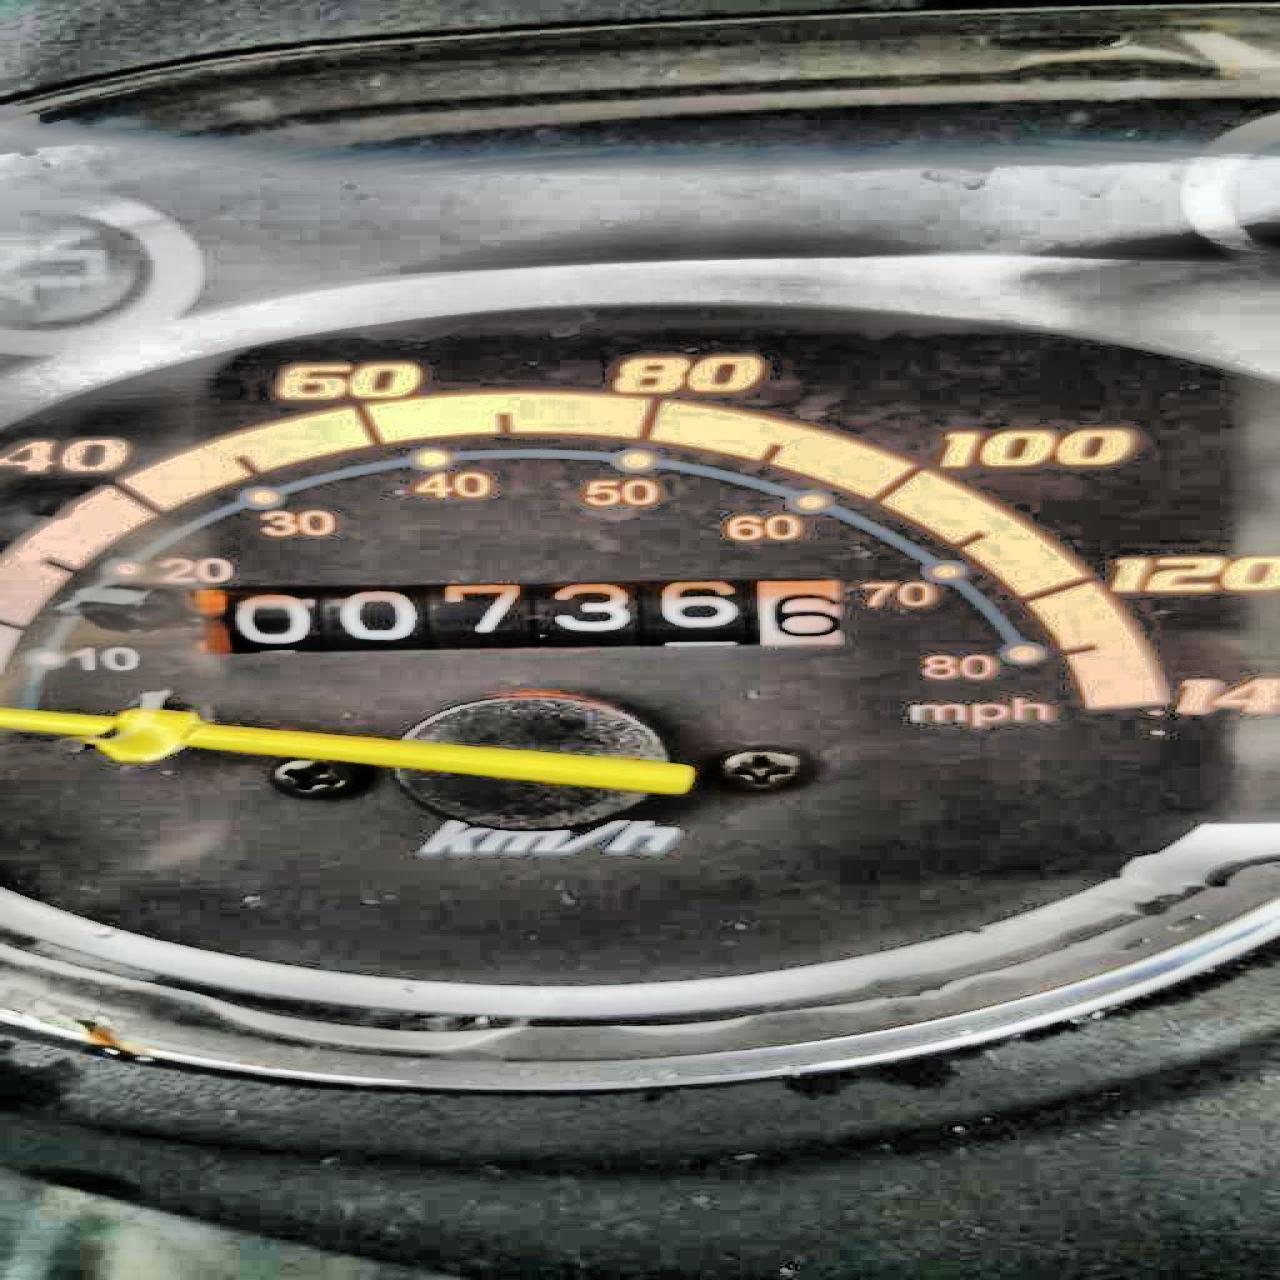0: (225, 590, 315, 649), (335, 586, 423, 645)
3: (553, 583, 635, 636)
6: (658, 578, 742, 633), (760, 590, 845, 642)
7: (440, 581, 523, 639)
odometer: (188, 576, 860, 660)
